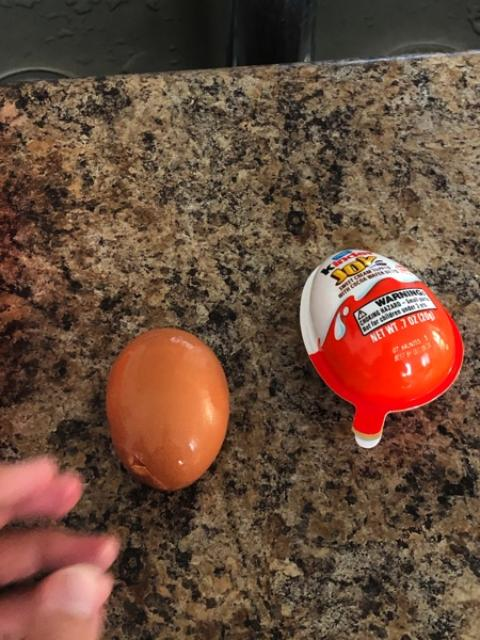Roto: (105, 325, 230, 491)
